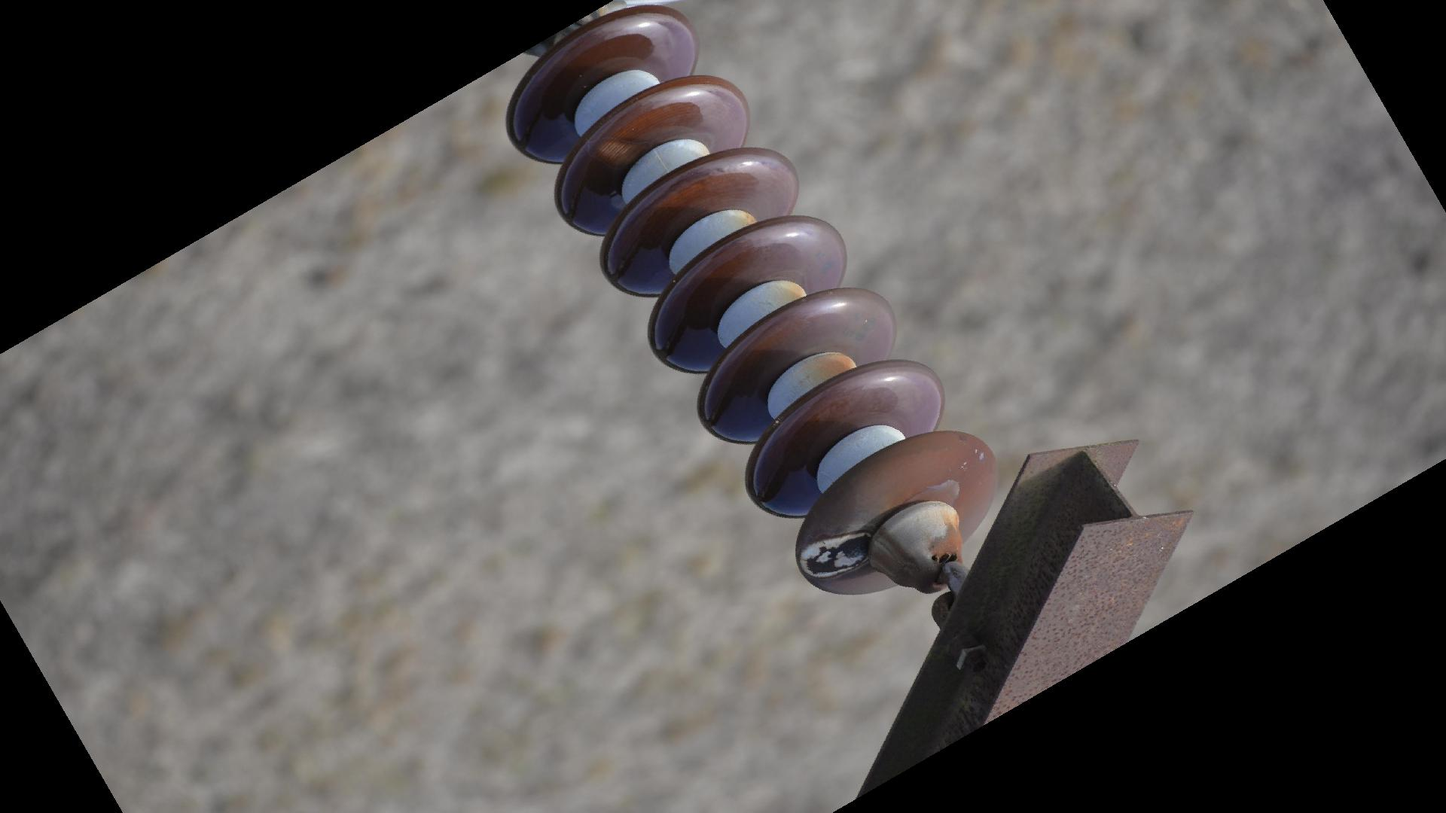insulator: (503, 1, 1005, 607)
insulator_flashover: (798, 528, 876, 580), (595, 137, 642, 169)
